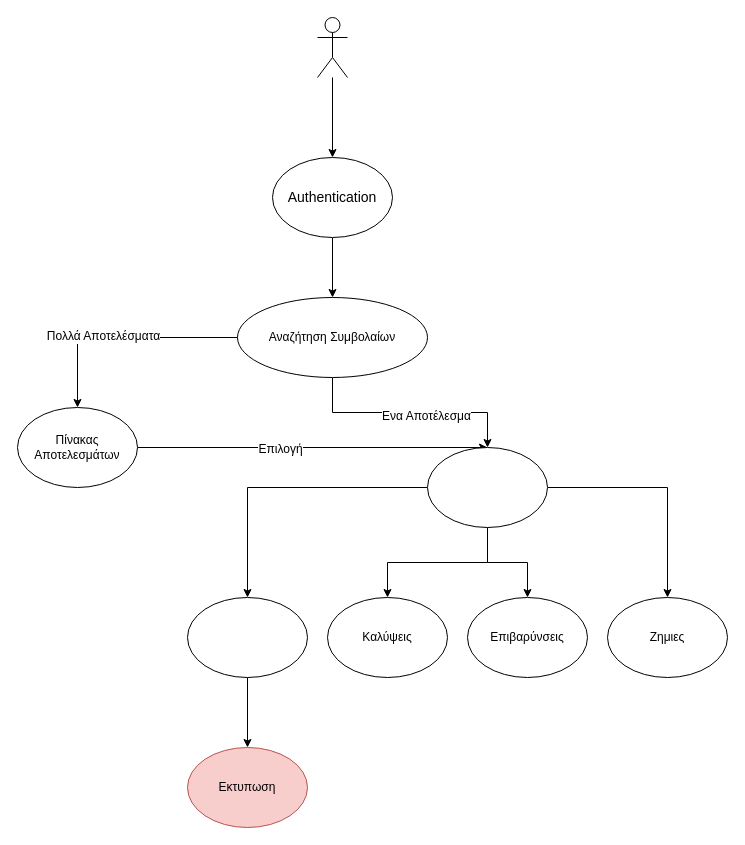
Image size: 745x845. Some labels were removed from this diagram. The centre of each missing label's shape, as x and y in pixels:
User: point (332, 47)
Καρτέλα Συμβολαίου: point (487, 487)
Στοιχεία Πελάτη: point (247, 637)
